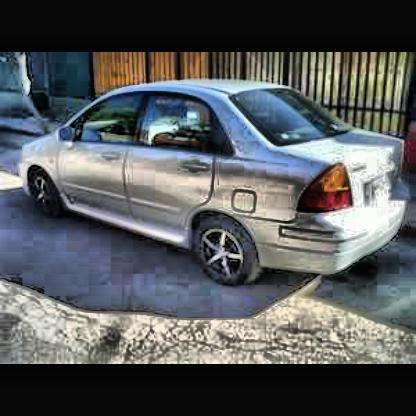Suzuki Aerio Sedan 2007: (19, 79, 414, 295)
